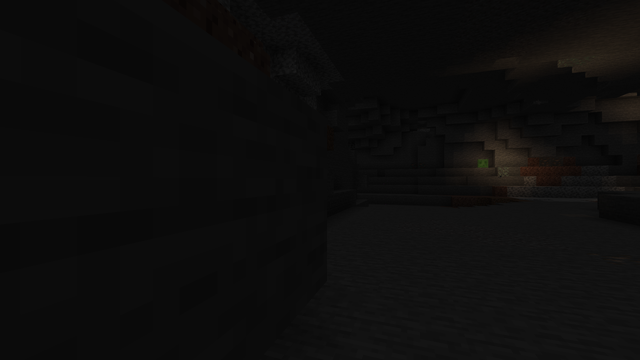slimes: (477, 158, 488, 165)
